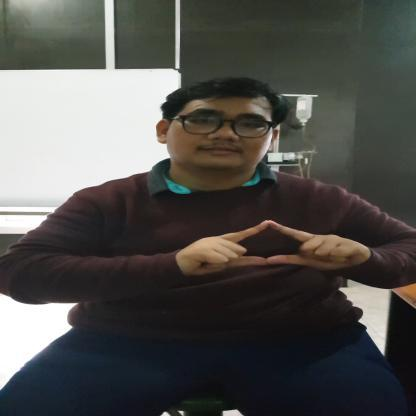A: (174, 220, 370, 276)
